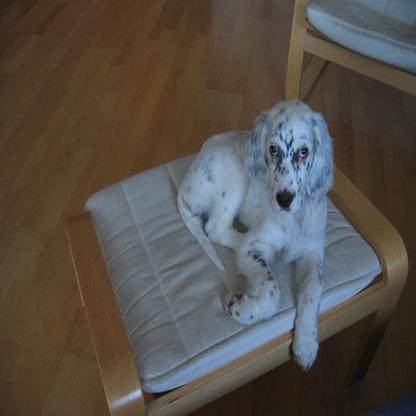English_setter: (173, 95, 337, 373)
